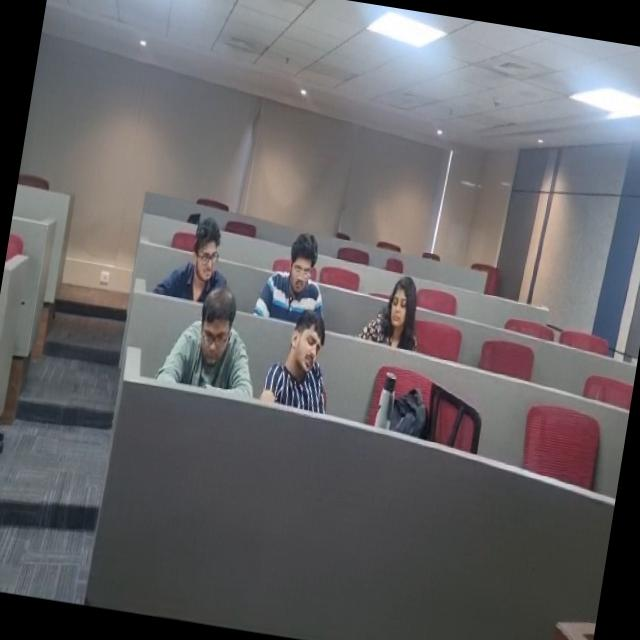cheating: (254, 286, 342, 428), (160, 222, 232, 300)
non-cheating: (159, 272, 265, 406), (258, 203, 342, 331), (358, 253, 432, 352)
